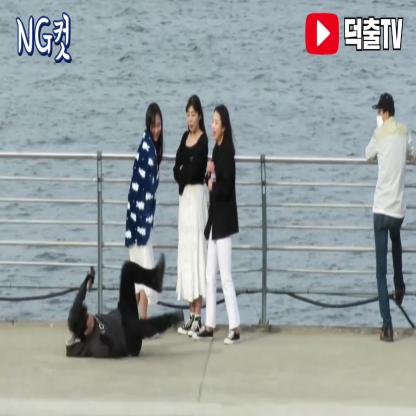Fall_Down: (64, 250, 187, 360)
